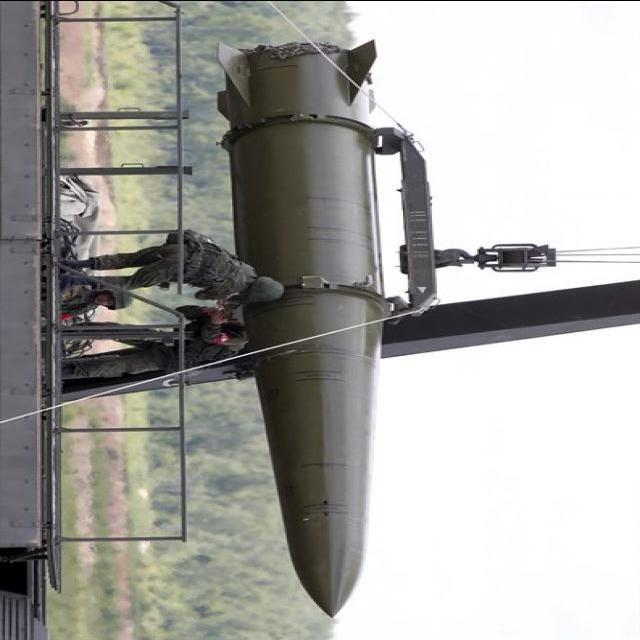missile: (210, 38, 416, 623)
